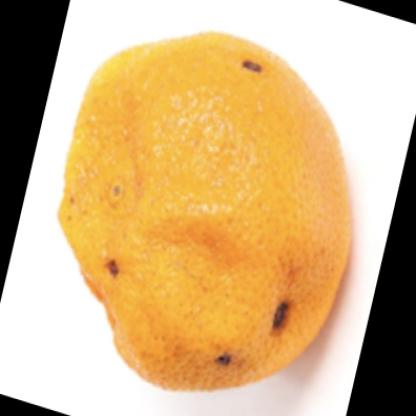rotten: (62, 37, 352, 391)
